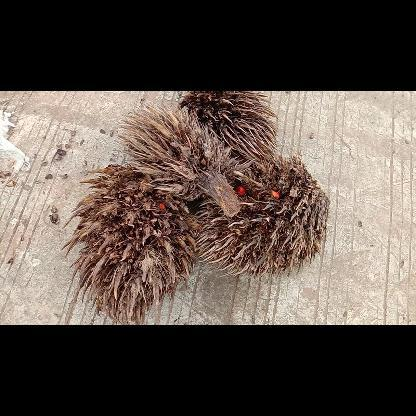Janjang kosong: (61, 164, 198, 322), (198, 155, 330, 276), (117, 100, 241, 218), (179, 92, 275, 162)
